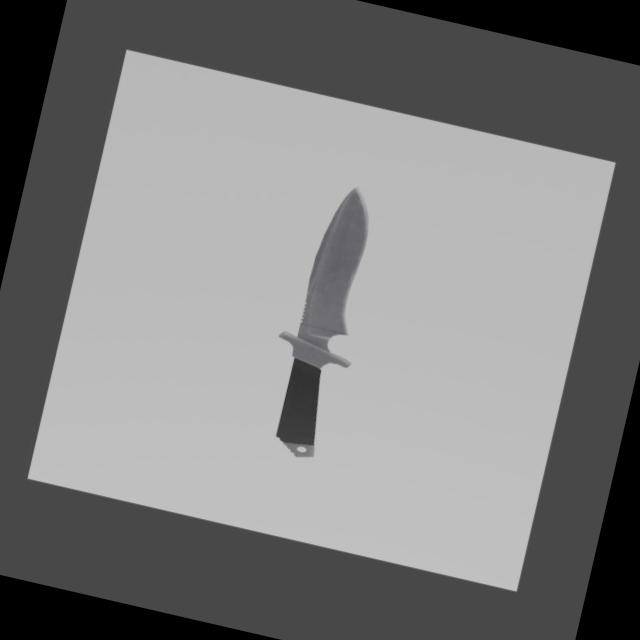knife: (270, 357, 332, 460)
